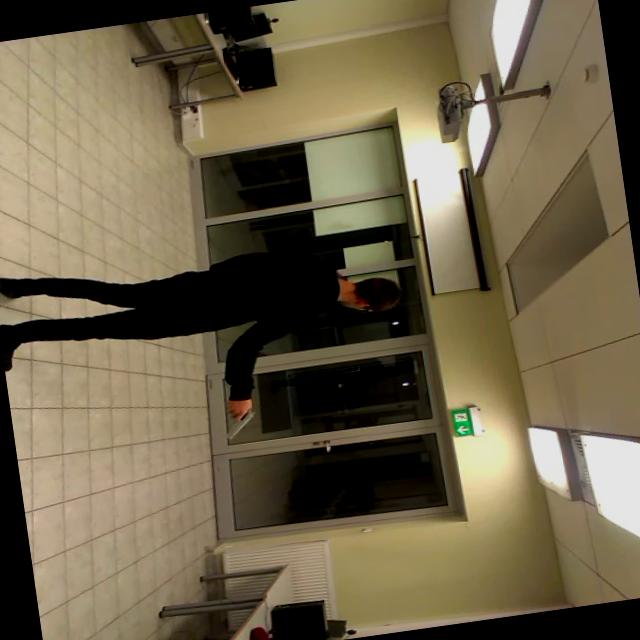handgun: (209, 400, 264, 446)
